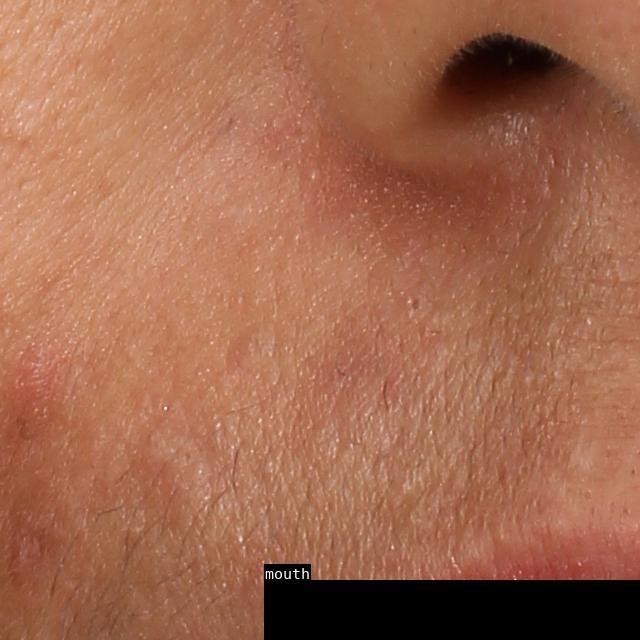comedo: (407, 292, 426, 317)
hypertrophic_scar: (148, 428, 219, 530)
